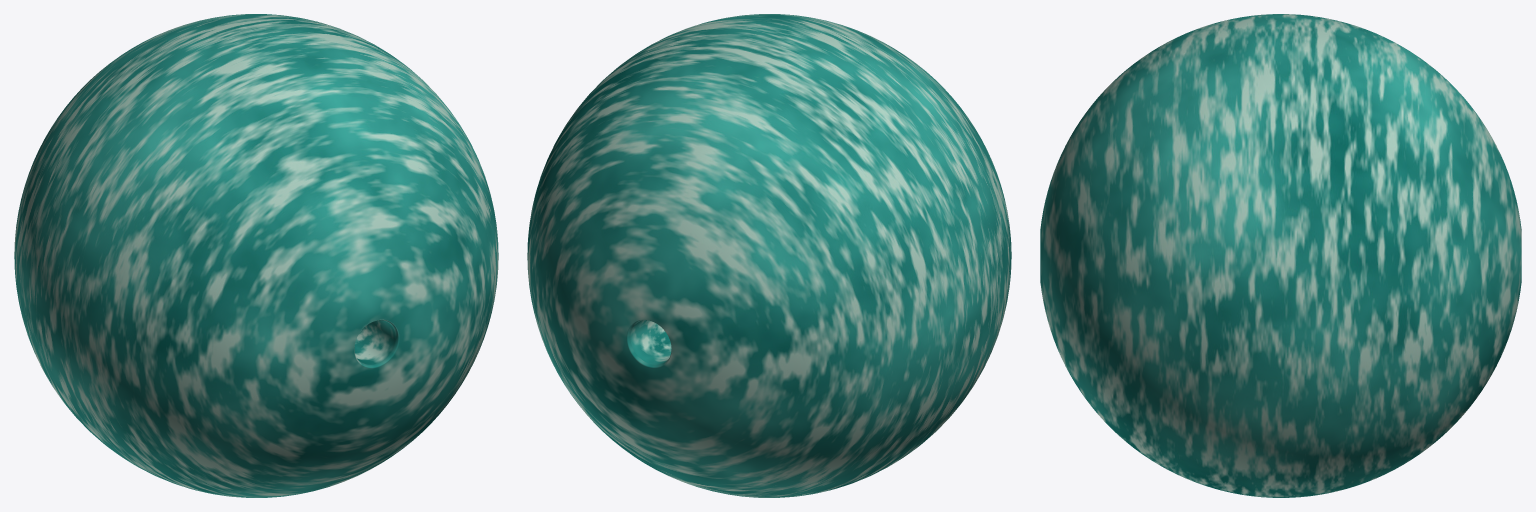
The model's file is amazonite-10mm.glb.
3 views of the same model, side by side, from view 1: azimuth 30°, elevation 25°; view 2: azimuth 150°, elevation 25°; view 3: azimuth 270°, elevation 25° (orthographic).
Parts seen in each view (by area): view 1: amazonite.001; view 2: amazonite.001; view 3: amazonite.001.
Boxes of the visible parts, left/top/right/bottom form: amazonite.001: left=14, top=14, right=498, bottom=497; amazonite.001: left=527, top=14, right=1011, bottom=497; amazonite.001: left=1040, top=14, right=1521, bottom=497.
Bounding box in the file's own units: 0.01 × 0.01 × 0.00994.
Materials: 1 (1 with a texture image).
